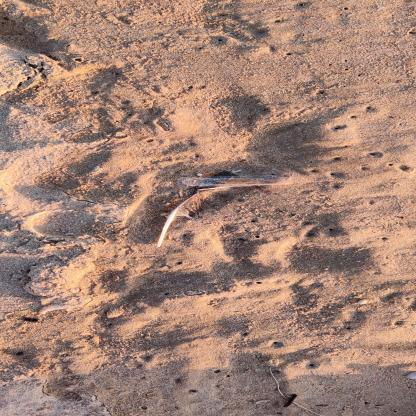trash: (150, 184, 235, 249), (174, 175, 299, 188), (195, 174, 204, 176)
